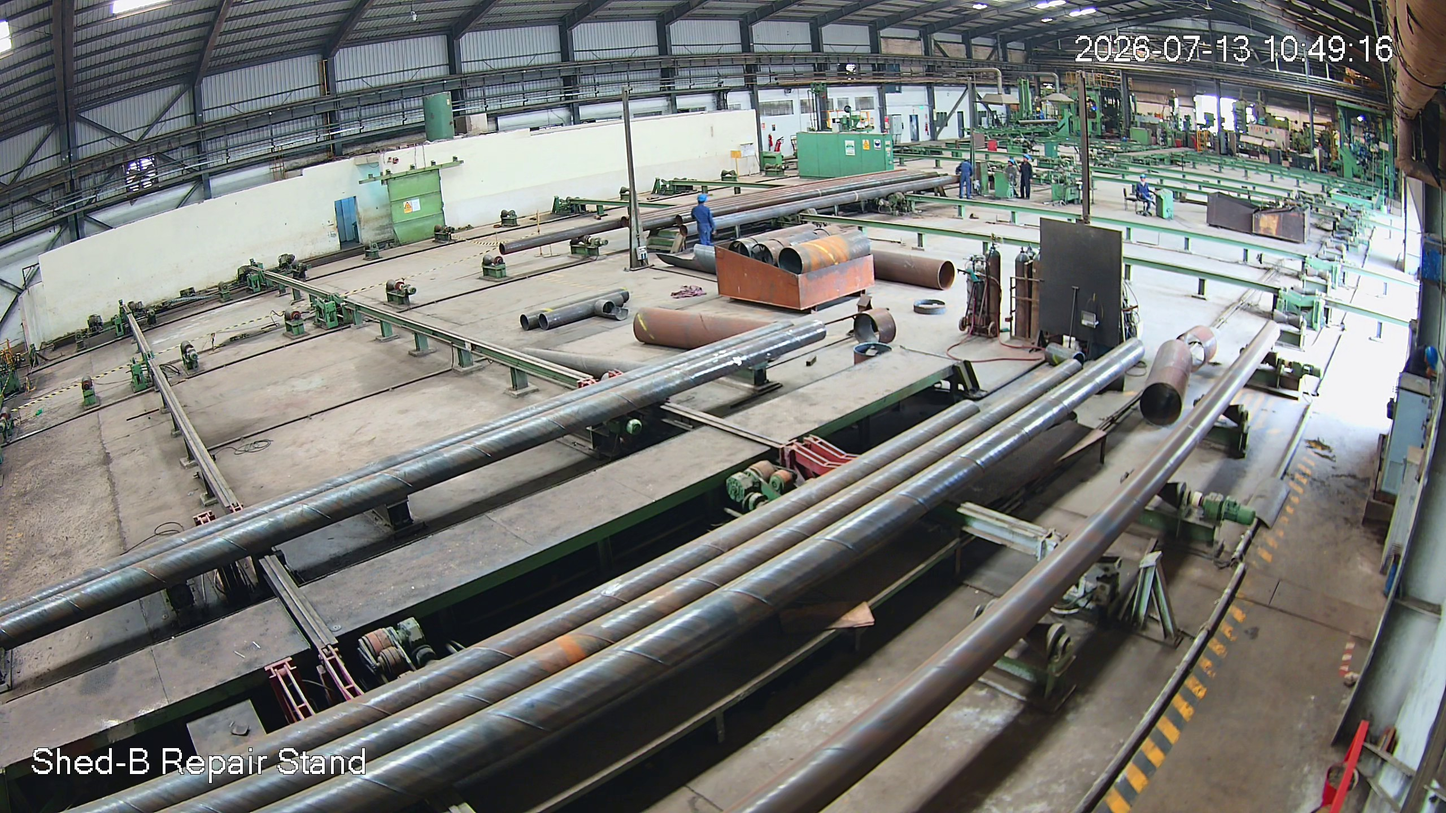Helmet: (697, 194, 708, 209)
Person: (692, 196, 715, 246)
